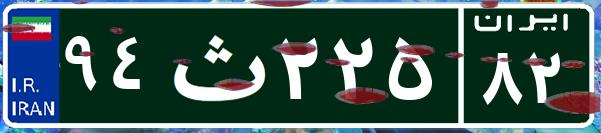2: (273, 28, 330, 110), (330, 28, 385, 110), (525, 38, 570, 115)
4: (110, 28, 158, 105)
5: (385, 28, 445, 110)
8: (475, 38, 525, 113)
9: (57, 26, 110, 107)
ث: (158, 15, 273, 115)
